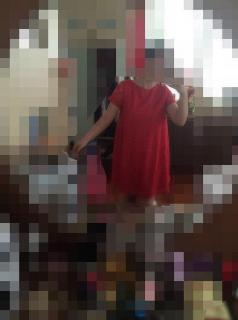short sleeve dress: (108, 79, 177, 199)
